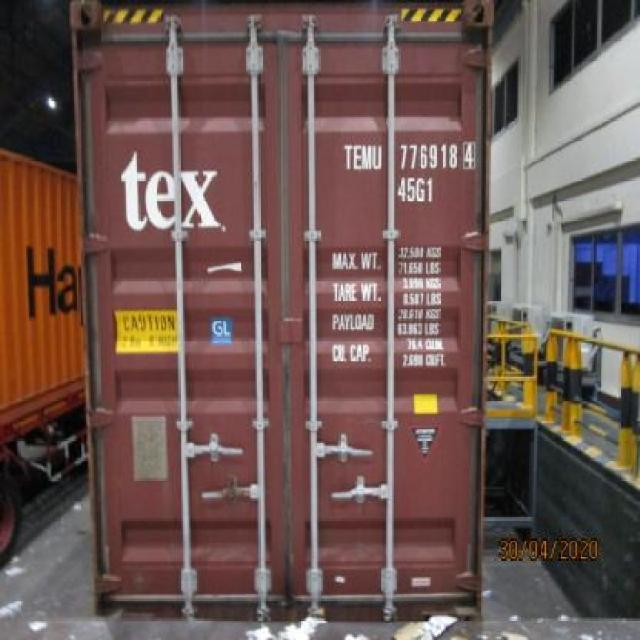ISO: (398, 176, 438, 202)
container_number: (340, 144, 476, 174)
